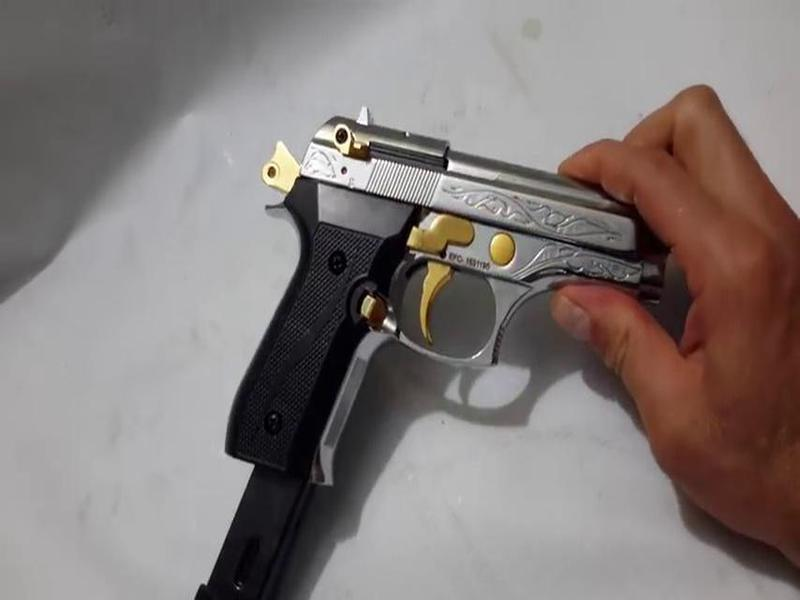Pistola: (209, 101, 722, 494)
